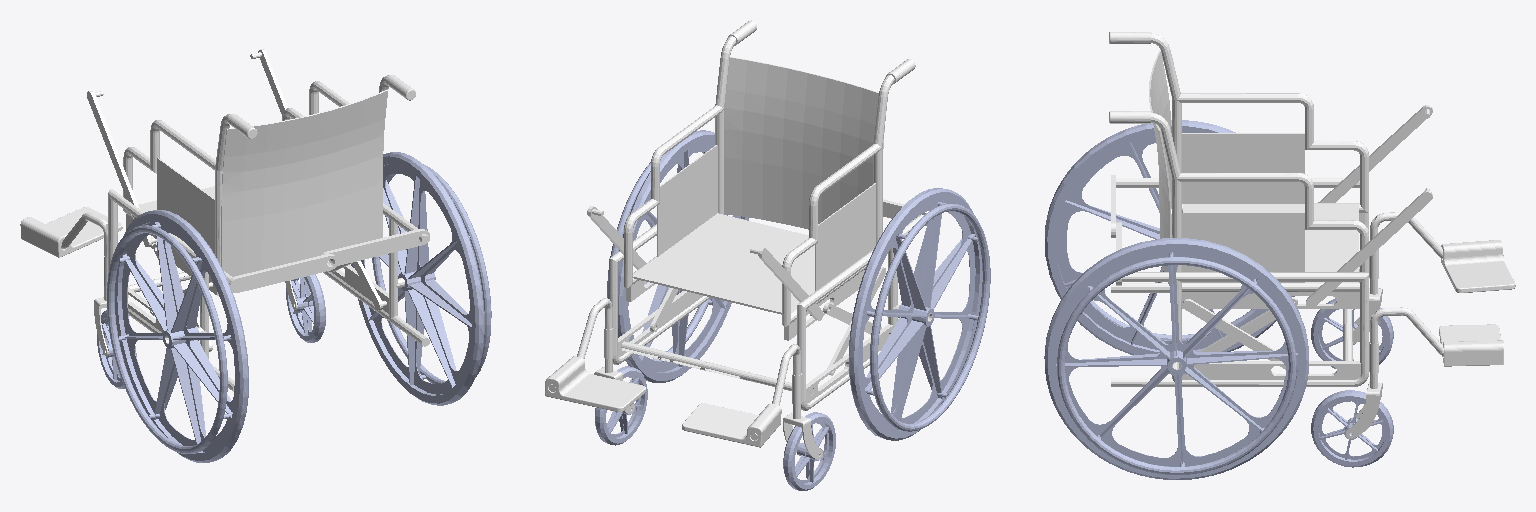
The robot description file, URDF, robot "Wheelchair":
<?xml version="1.0" encoding="utf-8"?>
<!-- This URDF was automatically created by SolidWorks to URDF Exporter! Originally created by [author] ([email redacted]) 
     Commit Version: 1.5.1-0-g916b5db  Build Version: 1.5.7152.31018
     For more information, please see http://wiki.ros.org/sw_urdf_exporter -->
<robot
  name="Wheelchair">
  <link
    name="link_1">
    <inertial>
      <origin
        xyz="-0.120348767866466 -0.389731622650104 0.387300710056047"
        rpy="0 0 0" />
      <mass
        value="12.0466928575561" />
      <inertia
        ixx="0.338670584863323"
        ixy="0.00034498006083394"
        ixz="-0.00035843894343498"
        iyy="0.188797500952031"
        iyz="0.0174918908364582"
        izz="0.258334010650869" />
    </inertial>
    <visual>
      <origin
        xyz="0 0 0"
        rpy="0 0 0" />
      <geometry>
        <mesh
          filename="package://Wheelchair/meshes/link_1.STL" />
      </geometry>
      <material
        name="">
        <color
          rgba="1 1 1 1" />
      </material>
    </visual>
    <collision>
      <origin
        xyz="0 0 0"
        rpy="0 0 0" />
      <geometry>
        <mesh
          filename="package://Wheelchair/meshes/link_1.STL" />
      </geometry>
    </collision>
  </link>
  <link
    name="link_2">
    <inertial>
      <origin
        xyz="0.212085222965759 5.55111512312578E-17 -2.22044604925031E-16"
        rpy="0 0 0" />
      <mass
        value="2.09127347260338" />
      <inertia
        ixx="0.141718020445608"
        ixy="-1.03223391956635E-17"
        ixz="-5.97385502271315E-21"
        iyy="0.071032457847062"
        iyz="4.16333634234434E-17"
        izz="0.0710324578470621" />
    </inertial>
    <visual>
      <origin
        xyz="0 0 0"
        rpy="0 0 0" />
      <geometry>
        <mesh
          filename="package://Wheelchair/meshes/link_2.STL" />
      </geometry>
      <material
        name="">
        <color
          rgba="0.796078431372549 0.823529411764706 0.937254901960784 1" />
      </material>
    </visual>
    <collision>
      <origin
        xyz="0 0 0"
        rpy="0 0 0" />
      <geometry>
        <mesh
          filename="package://Wheelchair/meshes/link_2.STL" />
      </geometry>
    </collision>
  </link>
  <joint
    name="joint2"
    type="continuous">
    <origin
      xyz="0 -0.610361243685388 0.283133340342624"
      rpy="0.833630906099941 0 0" />
    <parent
      link="link_1" />
    <child
      link="link_2" />
    <axis
      xyz="-1 0 0" />
    <limit
      lower="0"
      upper="0"
      effort="0"
      velocity="0" />
    <safety_controller
      soft_upper="0"
      soft_lower="0"
      k_velocity="0" />
  </joint>
  <link
    name="Link_3">
    <inertial>
      <origin
        xyz="0.0469427212195543 1.66533453693773E-16 -1.66533453693773E-16"
        rpy="0 0 0" />
      <mass
        value="2.09127347260336" />
      <inertia
        ixx="0.141718020445607"
        ixy="-1.27401635751758E-17"
        ixz="7.03285244666214E-18"
        iyy="0.0710324578470613"
        iyz="2.77555756156289E-17"
        izz="0.0710324578470613" />
    </inertial>
    <visual>
      <origin
        xyz="0 0 0"
        rpy="0 0 0" />
      <geometry>
        <mesh
          filename="package://Wheelchair/meshes/Link_3.STL" />
      </geometry>
      <material
        name="">
        <color
          rgba="0.796078431372549 0.823529411764706 0.937254901960784 1" />
      </material>
    </visual>
    <collision>
      <origin
        xyz="0 0 0"
        rpy="0 0 0" />
      <geometry>
        <mesh
          filename="package://Wheelchair/meshes/Link_3.STL" />
      </geometry>
    </collision>
  </link>
  <joint
    name="joint3"
    type="continuous">
    <origin
      xyz="-0.400007498253795 -0.610361243685388 0.283133340342624"
      rpy="2.74051894129553 0 3.14159265358979" />
    <parent
      link="link_1" />
    <child
      link="Link_3" />
    <axis
      xyz="1 0 0" />
  </joint>
  <link
    name="Link_4">
    <inertial>
      <origin
        xyz="-0.0530654842299729 -5.55111512312578E-17 -2.77555756156289E-17"
        rpy="0 0 0" />
      <mass
        value="0.290948648858615" />
      <inertia
        ixx="0.00171792777524043"
        ixy="2.84603070277445E-19"
        ixz="6.16639985601131E-19"
        iyy="0.000880037934920853"
        iyz="0"
        izz="0.000880037934920855" />
    </inertial>
    <visual>
      <origin
        xyz="0 0 0"
        rpy="0 0 0" />
      <geometry>
        <mesh
          filename="package://Wheelchair/meshes/Link_4.STL" />
      </geometry>
      <material
        name="">
        <color
          rgba="0.796078431372549 0.823529411764706 0.937254901960784 1" />
      </material>
    </visual>
    <collision>
      <origin
        xyz="0 0 0"
        rpy="0 0 0" />
      <geometry>
        <mesh
          filename="package://Wheelchair/meshes/Link_4.STL" />
      </geometry>
    </collision>
  </link>
  <joint
    name="joint4"
    type="continuous">
    <origin
      xyz="0.0814948170286663 -0.201099988408622 0.0735833403426234"
      rpy="-0.335323024788823 0 3.03324340919704" />
    <parent
      link="link_1" />
    <child
      link="Link_4" />
    <axis
      xyz="1 0 0" />
  </joint>
  <link
    name="Link_5">
    <inertial>
      <origin
        xyz="0.0477153048044588 -1.2490009027033E-16 8.32667268468867E-17"
        rpy="0 0 0" />
      <mass
        value="0.290948648858615" />
      <inertia
        ixx="0.00171792777524043"
        ixy="-2.45830137116879E-18"
        ixz="1.30104260698261E-18"
        iyy="0.000880037934920853"
        iyz="9.14795583034644E-20"
        izz="0.000880037934920854" />
    </inertial>
    <visual>
      <origin
        xyz="0 0 0"
        rpy="0 0 0" />
      <geometry>
        <mesh
          filename="package://Wheelchair/meshes/Link_5.STL" />
      </geometry>
      <material
        name="">
        <color
          rgba="0.796078431372549 0.823529411764706 0.937254901960784 1" />
      </material>
    </visual>
    <collision>
      <origin
        xyz="0 0 0"
        rpy="0 0 0" />
      <geometry>
        <mesh
          filename="package://Wheelchair/meshes/Link_5.STL" />
      </geometry>
    </collision>
  </link>
  <joint
    name="joint5"
    type="continuous">
    <origin
      xyz="-0.33261720592792 -0.211961828292965 0.0735833403426242"
      rpy="1.5911605192273 0 3.03410910405168" />
    <parent
      link="link_1" />
    <child
      link="Link_5" />
    <axis
      xyz="1 0 0" />
  </joint>

<gazebo reference="Link_5">
    <mu1>0.0</mu1>
    <mu2>0.0</mu2>
  </gazebo>

<gazebo reference="Link_4">
    <mu1>0.0</mu1>
    <mu2>0.0</mu2>
  </gazebo>

 <transmission name="T_left_wheel">
    <type>transmission_interface/SimpleTransmission</type>
    <actuator name="motor_2">
      <mechanicalReduction>1</mechanicalReduction>
      <hardwareInterface>hardware_interface/VelocityJointInterface</hardwareInterface>
    </actuator>
    <joint name="joint2">
      <hardwareInterface>hardware_interface/VelocityJointInterface</hardwareInterface>
    </joint>
  </transmission>

 <transmission name="T_right_wheel">
    <type>transmission_interface/SimpleTransmission</type>
    <actuator name="motor_2">
      <mechanicalReduction>1</mechanicalReduction>
      <hardwareInterface>hardware_interface/VelocityJointInterface</hardwareInterface>
    </actuator>
    <joint name="joint3">
      <hardwareInterface>hardware_interface/VelocityJointInterface</hardwareInterface>
    </joint>
  </transmission>

<gazebo>
  <plugin name="differential_drive_controller" filename="libgazebo_ros_diff_drive.so">
    <alwaysOn>true</alwaysOn>
    <updateRate>5</updateRate>
    <leftJoint>joint2</leftJoint>
    <rightJoint>joint3</rightJoint>
    <wheelSeparation>0.25</wheelSeparation>
    <wheelDiameter>0.24</wheelDiameter>
    <torque>10.41</torque>
    <commandTopic>cmd_vel</commandTopic>
    <odometryTopic>odom</odometryTopic>
    <odometryFrame>odom</odometryFrame>
    <robotBaseFrame>link_1</robotBaseFrame>
    <publishWheelJointState>true</publishWheelJointState>
    <enable_odom_tf>true</enable_odom_tf>
  </plugin>
</gazebo>
</robot>

--- Facts derived from the render (not from the file) ---
3 views of the same robot in one strip: view 1: azimuth 30°, elevation 25°; view 2: azimuth 150°, elevation 25°; view 3: azimuth 270°, elevation 25° (orthographic).
Robot: Wheelchair — 5 links, 4 joints (4 continuous); root link link_1; default pose: every joint at zero.
Visible links, largest first — view 1: link_1, Link_3, link_2, Link_4, Link_5; view 2: link_1, Link_3, link_2, Link_5, Link_4; view 3: link_1, link_2, Link_3, Link_4, Link_5.
Boxes of the visible links, bbox=[...] form: link_1: bbox=[20, 49, 429, 391]; Link_3: bbox=[107, 210, 248, 462]; link_2: bbox=[351, 152, 491, 405]; Link_4: bbox=[286, 274, 325, 342]; Link_5: bbox=[97, 310, 136, 388]; link_1: bbox=[545, 20, 932, 459]; Link_3: bbox=[849, 188, 990, 440]; link_2: bbox=[607, 130, 748, 382]; Link_5: bbox=[783, 412, 835, 490]; Link_4: bbox=[595, 366, 647, 445]; link_1: bbox=[1109, 32, 1515, 438]; link_2: bbox=[1044, 238, 1308, 479]; Link_3: bbox=[1045, 120, 1294, 354]; Link_4: bbox=[1311, 390, 1393, 467]; Link_5: bbox=[1311, 298, 1393, 368].
Size in the robot's own frame: 0.7366 by 1.08 by 0.8836 metres.
5 mesh visuals loaded from 5 distinct referenced files (5 binary STL).